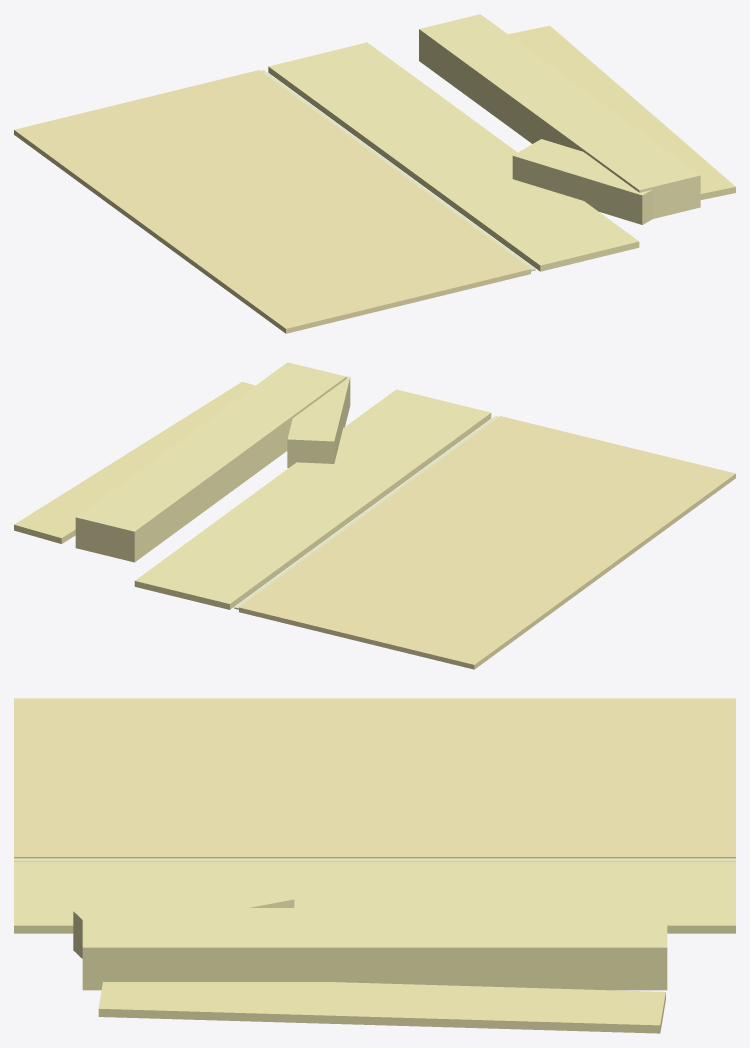
The model's file is road_retaining_wall_abutment_transition.glb.
3 renders of one model, top to bottom at view 1: azimuth 30°, elevation 25°; view 2: azimuth 150°, elevation 25°; view 3: azimuth 270°, elevation 25°, orthographic. The views are drawn at different scales.
Parts seen in each view (by area): view 1: approach_lane, abutment_slab, retaining_abutment, embankment_fill, wing_wall, joint_gap; view 2: approach_lane, abutment_slab, retaining_abutment, embankment_fill, wing_wall, joint_gap; view 3: approach_lane, retaining_abutment, abutment_slab, embankment_fill, wing_wall, joint_gap.
Boxes of the visible parts, x1=… form: approach_lane: x1=14, y1=70, x2=530, y2=333; abutment_slab: x1=268, y1=42, x2=639, y2=271; retaining_abutment: x1=419, y1=14, x2=700, y2=218; embankment_fill: x1=508, y1=25, x2=735, y2=199; wing_wall: x1=512, y1=139, x2=652, y2=224; joint_gap: x1=260, y1=70, x2=535, y2=272; approach_lane: x1=239, y1=416, x2=735, y2=669; abutment_slab: x1=134, y1=389, x2=491, y2=609; retaining_abutment: x1=75, y1=362, x2=346, y2=562; embankment_fill: x1=14, y1=382, x2=255, y2=543; wing_wall: x1=287, y1=376, x2=350, y2=467; joint_gap: x1=234, y1=416, x2=498, y2=610; approach_lane: x1=14, y1=698, x2=735, y2=858; retaining_abutment: x1=82, y1=908, x2=667, y2=990; abutment_slab: x1=14, y1=861, x2=735, y2=933; embankment_fill: x1=98, y1=982, x2=665, y2=1033; wing_wall: x1=73, y1=874, x2=294, y2=958; joint_gap: x1=14, y1=858, x2=735, y2=861.
Size of the model in its own units: 4.31 by 0.26 by 4.
